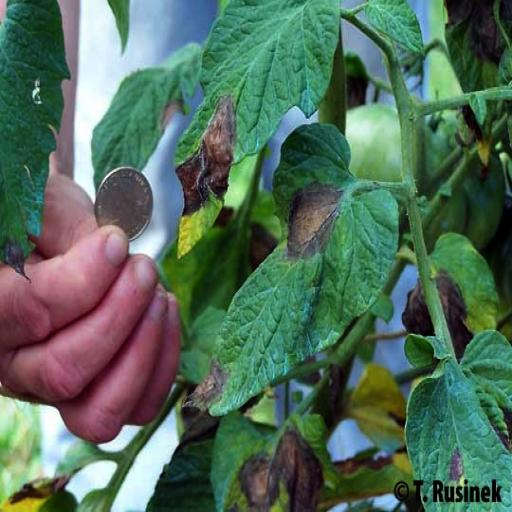disease_tomato: (177, 119, 401, 425), (174, 4, 342, 263), (402, 326, 512, 512)
